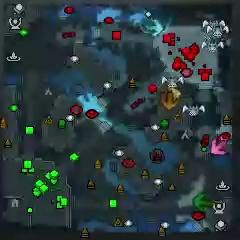x1: (210, 138, 227, 156)
x3: (145, 19, 164, 36)
x4: (193, 193, 214, 211)
x5: (160, 91, 178, 109)
